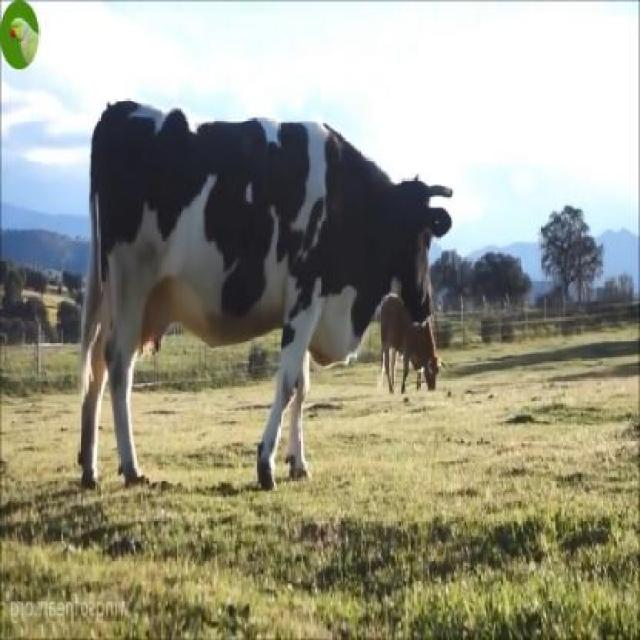Cow: (81, 93, 454, 484)
